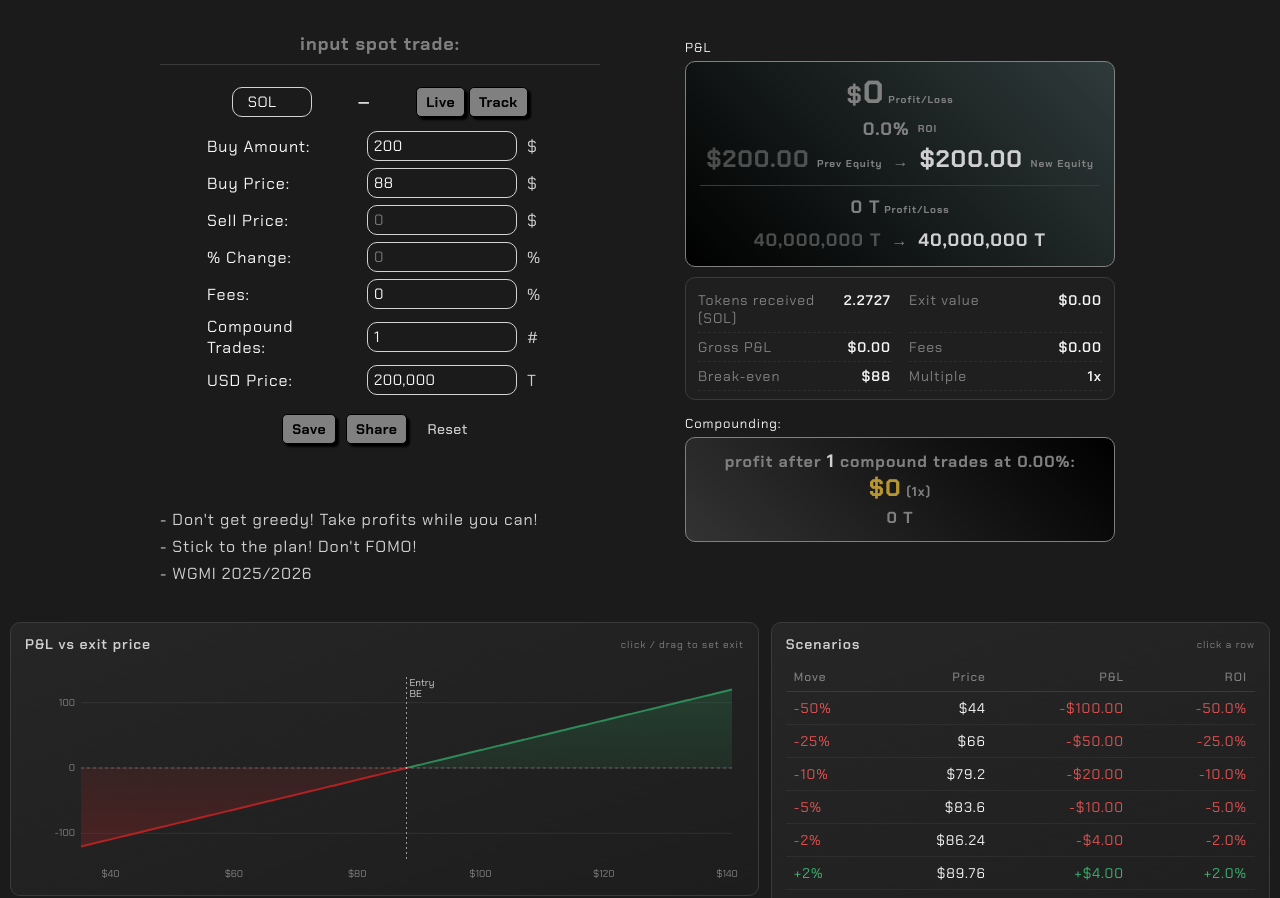
Spot calculator inputs (no jumping) › types a negative decimal % change character by character
In the field named "% Change": (442, 257) [367,242,517,272], type "-5.5"
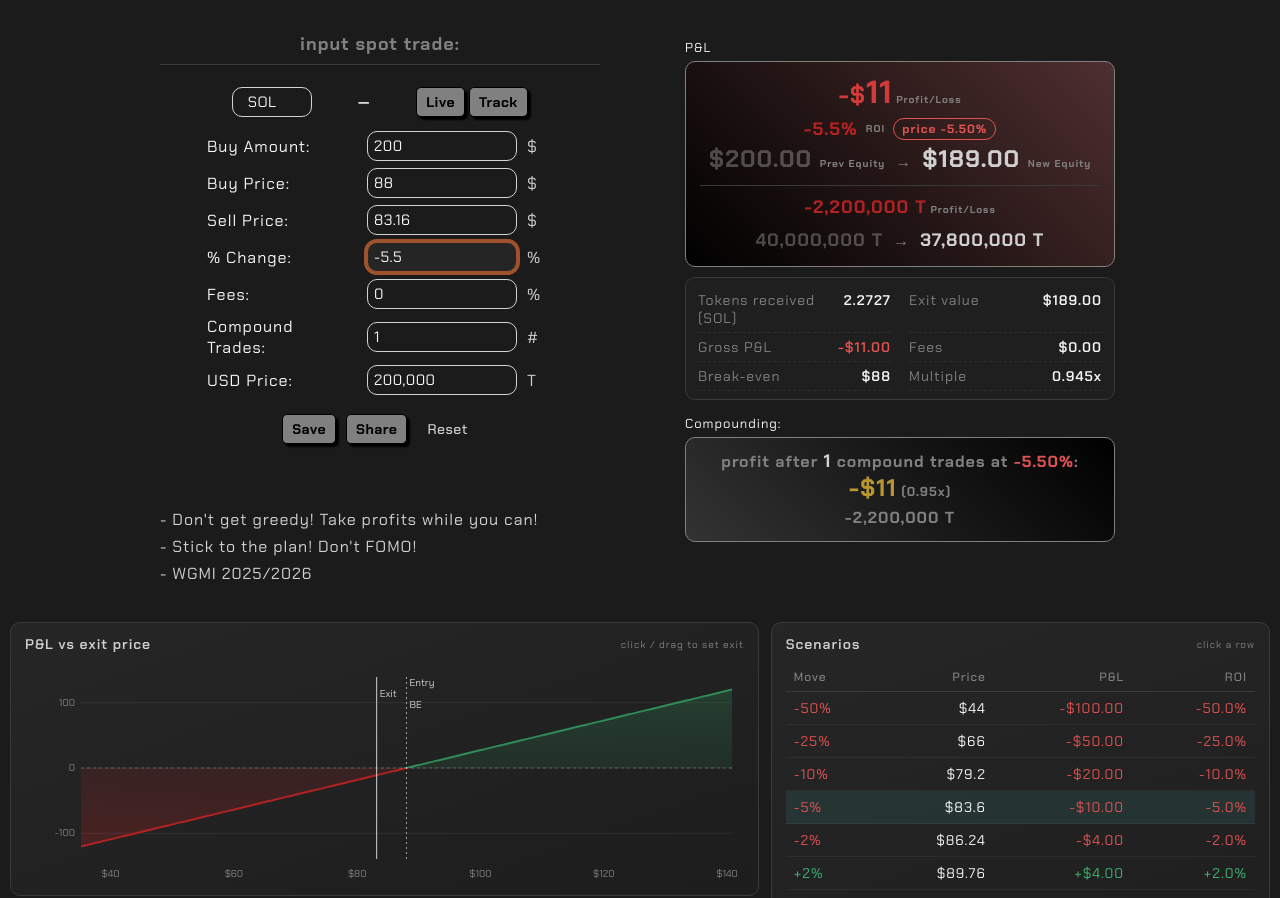
Expected: the field named "Sell Price" holds "83.16", [367,205,517,235]
